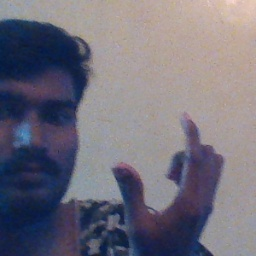U: (107, 106, 226, 244)
